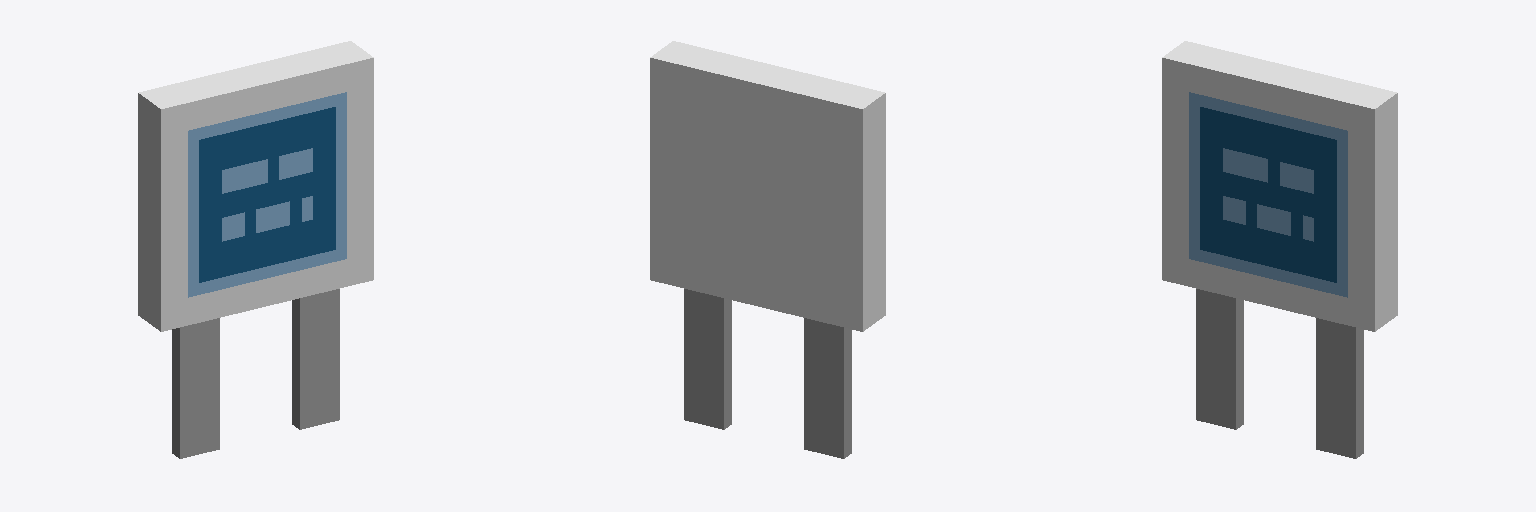
3 renders of one model, left to right at view 1: azimuth 30°, elevation 25°; view 2: azimuth 150°, elevation 25°; view 3: azimuth 330°, elevation 25°, orthographic.
Parts seen in each view (by area): view 1: polygon0; view 2: polygon0; view 3: polygon0.
Boxes of the visible parts, box(x1,y1,x2,y2) form: polygon0: box(138, 41, 373, 458); polygon0: box(650, 41, 885, 458); polygon0: box(1162, 41, 1397, 458).
Size of the model in its own units: 1 by 1.62 by 0.1875.
Materials: 2 (1 with a texture image).